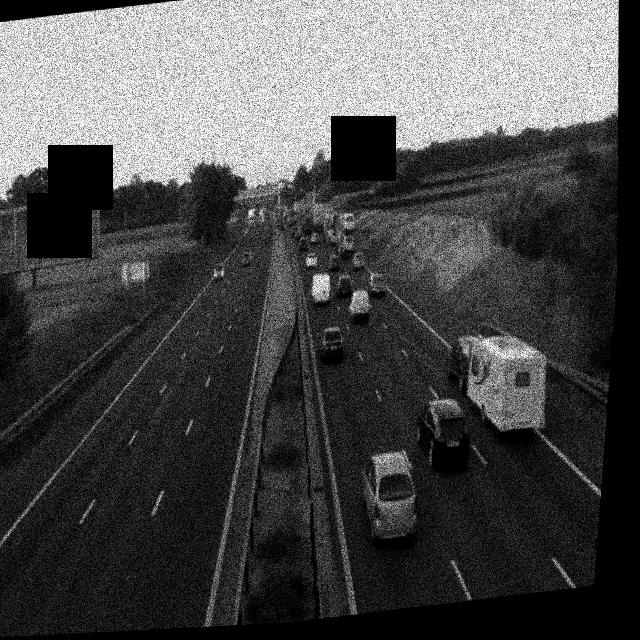bus: (335, 211, 358, 249)
car: (354, 448, 423, 544), (411, 395, 474, 471), (318, 324, 347, 362), (346, 287, 372, 321), (366, 269, 388, 297), (334, 273, 353, 298), (303, 250, 318, 270), (352, 250, 366, 270), (212, 262, 227, 280), (328, 253, 342, 272), (240, 250, 252, 266), (296, 237, 308, 252)
truck: (442, 324, 555, 441), (309, 269, 334, 305), (247, 206, 260, 224)
